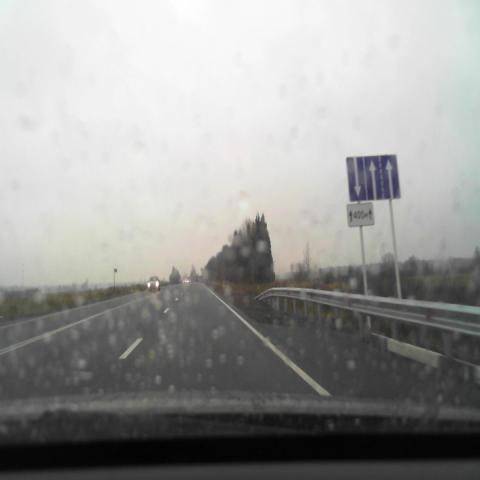8_2_1: (347, 203, 375, 228)
